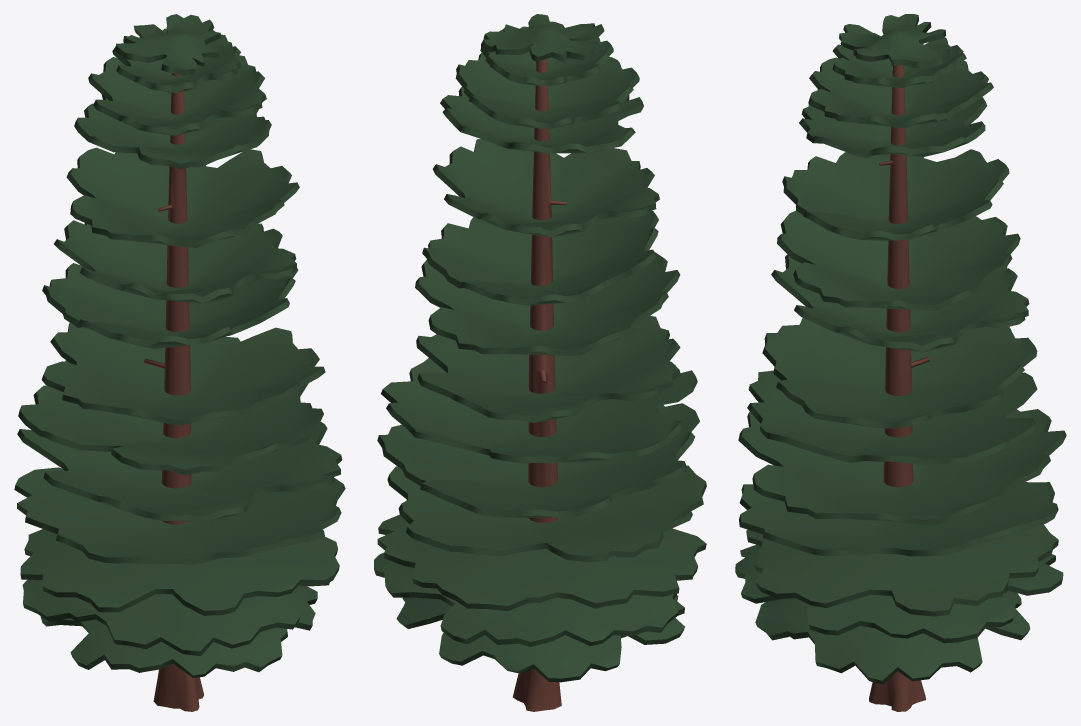
File: sprucetree_01.fbx
The picture shows the model from 3 angles, left to right: view 1: azimuth 30°, elevation 25°; view 2: azimuth 150°, elevation 25°; view 3: azimuth 270°, elevation 25°; orthographic projection.
Visible parts, largest first — view 1: spruce_leaves, spruce_trunk; view 2: spruce_leaves, spruce_trunk; view 3: spruce_leaves, spruce_trunk.
Part boxes in pixels (bbox=[...]): spruce_leaves: bbox=[14, 14, 345, 677]; spruce_trunk: bbox=[144, 73, 203, 711]; spruce_leaves: bbox=[374, 14, 706, 682]; spruce_trunk: bbox=[513, 58, 566, 711]; spruce_leaves: bbox=[735, 14, 1066, 684]; spruce_trunk: bbox=[869, 65, 929, 711].
Size of the model in its own units: 273 by 605 by 273.
